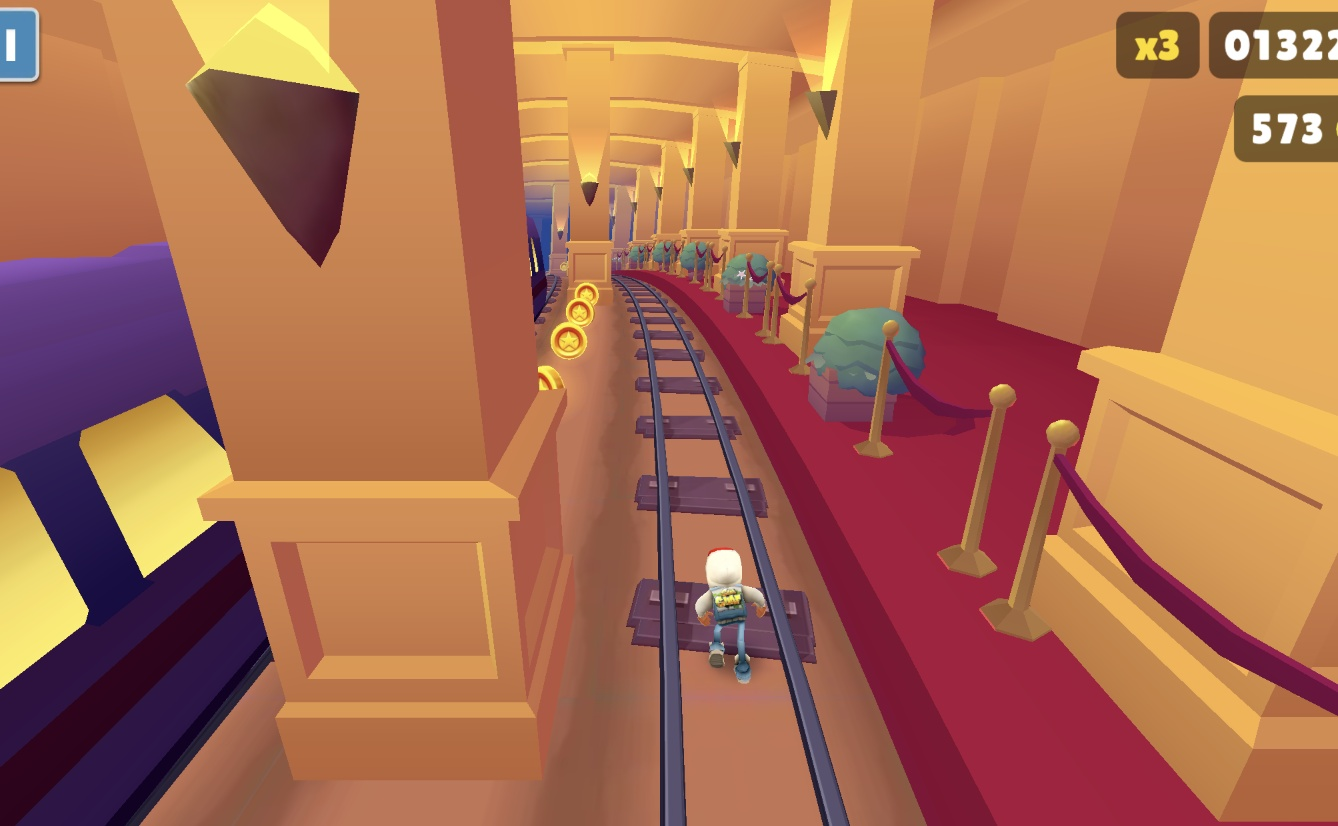pillar: (67, 0, 562, 786), (567, 120, 614, 312)
train: (0, 240, 270, 826)
